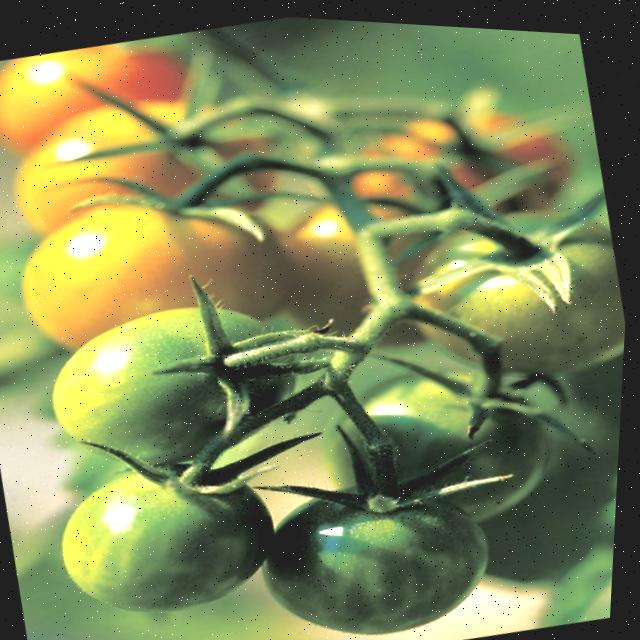ripe0: (41, 290, 303, 467), (50, 444, 281, 625)
